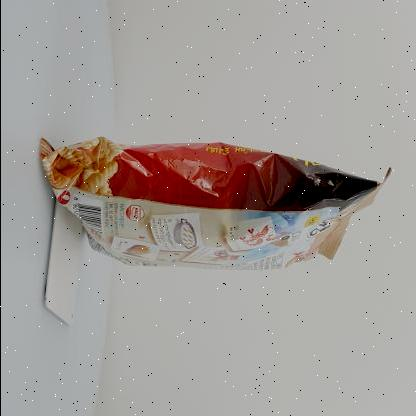Others: (31, 115, 401, 285)
